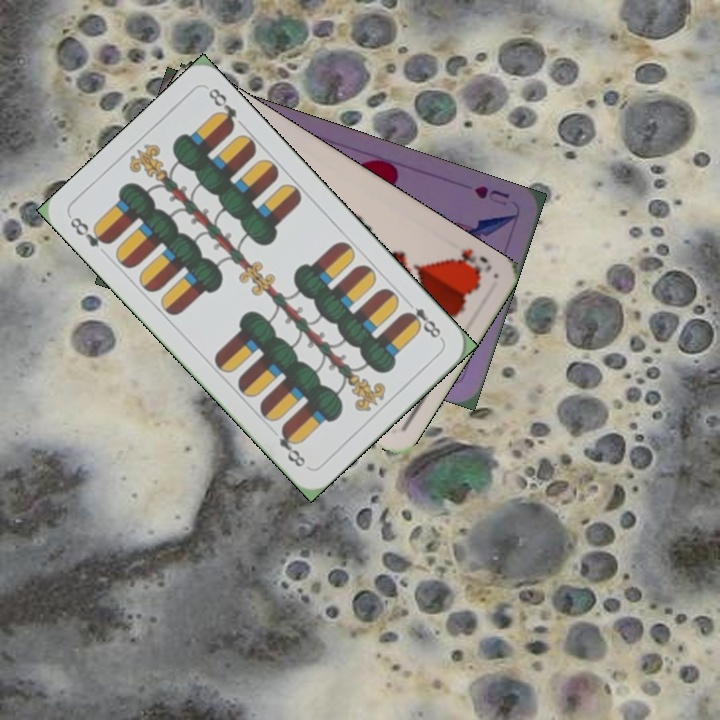E8: (399, 295, 444, 343), (65, 213, 114, 250)
HO: (447, 244, 495, 280)
HU: (469, 181, 512, 209)
